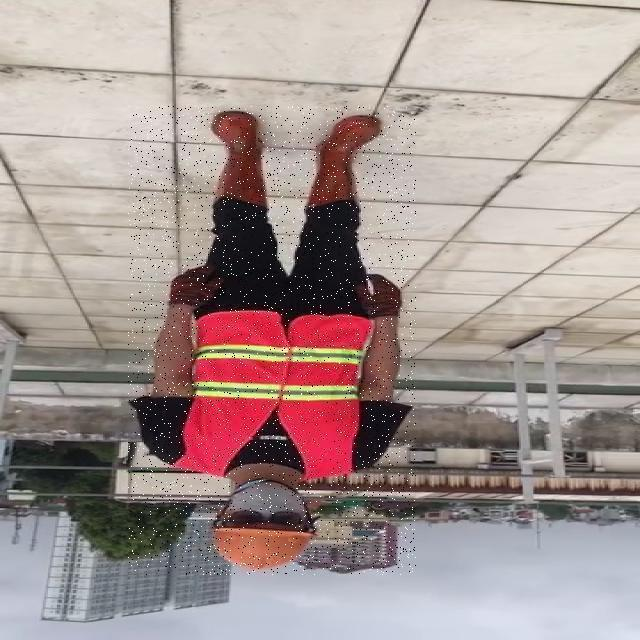Boots: (308, 115, 378, 210), (210, 113, 268, 206)
Gloves: (164, 264, 225, 302), (354, 272, 405, 316)
Helmet: (210, 522, 312, 574)
Vest: (188, 313, 372, 478)
